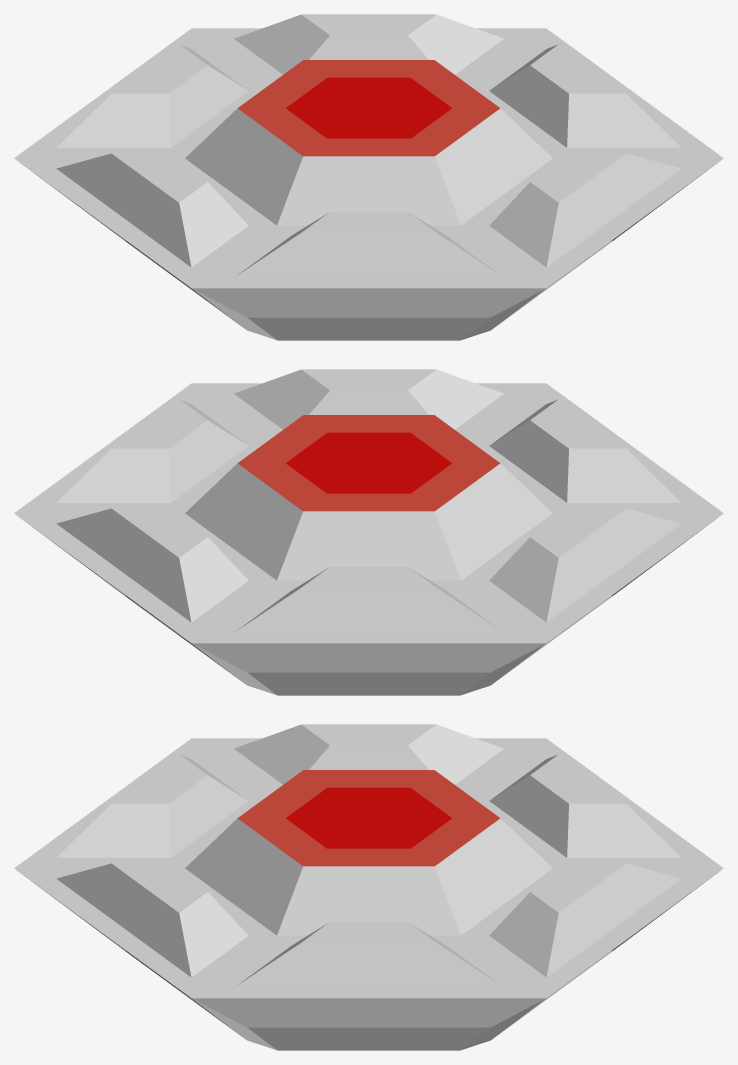
Rendered from 6sidedTop2.fbx.
The picture shows the model from 3 angles, top to bottom: view 1: azimuth 30°, elevation 25°; view 2: azimuth 150°, elevation 25°; view 3: azimuth 270°, elevation 25°; orthographic projection.
Visible parts, largest first — view 1: Cylinder; view 2: Cylinder; view 3: Cylinder.
Boxes of the visible parts, left/top/right/bottom form: Cylinder: left=14, top=14, right=723, bottom=340; Cylinder: left=14, top=369, right=723, bottom=695; Cylinder: left=14, top=724, right=723, bottom=1050.
Bounding box in the file's own units: 253 × 60.29 × 291.
